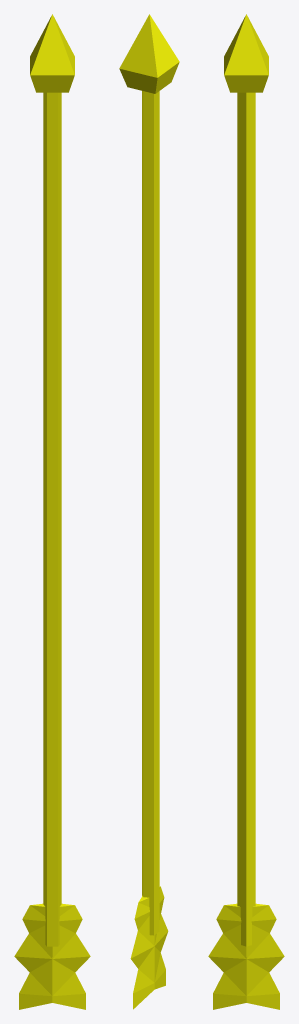
The model's file is _arrow_b_7.glb.
The picture shows the model from 3 angles, left to right: view 1: azimuth 90°, elevation 25°; view 2: azimuth 150°, elevation 25°; view 3: azimuth 270°, elevation 25°; orthographic projection.
Parts seen in each view (by area): view 1: arrow_b_7; view 2: arrow_b_7; view 3: arrow_b_7.
Part boxes in pixels (left/top/right/bottom): arrow_b_7: left=14, top=14, right=90, bottom=1009; arrow_b_7: left=119, top=14, right=179, bottom=1009; arrow_b_7: left=208, top=14, right=284, bottom=1009.
Bounding box in the file's own units: 0.0249 × 0.611 × 0.0425.
1 material, 1 textured.
